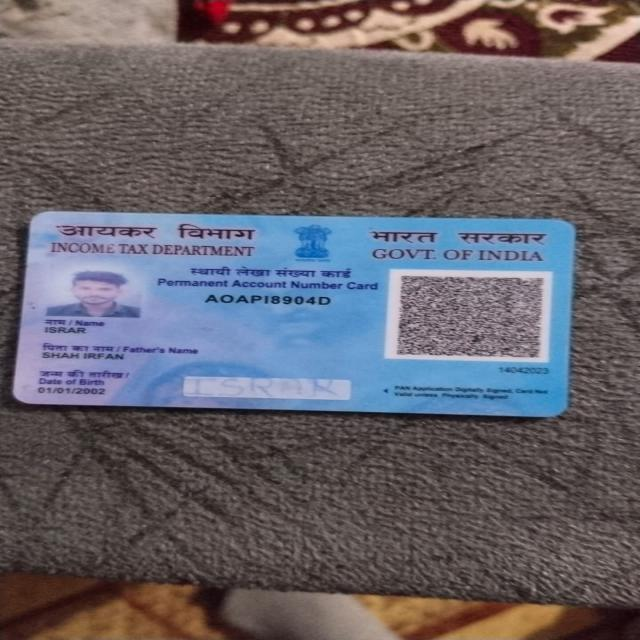pan_card: (12, 214, 572, 416)
